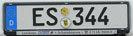3: (72, 6, 85, 26)
4: (97, 5, 110, 26), (85, 5, 97, 26)
E: (32, 6, 46, 27)
S: (45, 5, 59, 27)
